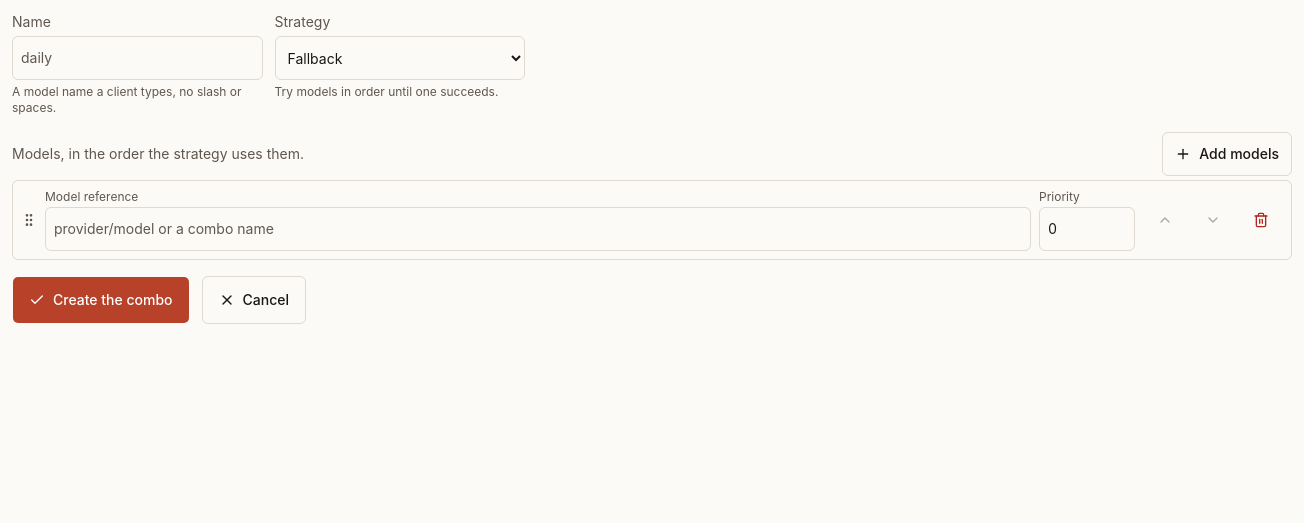
Test case: ComboEditor strategy fields › refuses a fusion combo with no judge model and sends nothing
In the field labelled "Name": (137, 58) [12,36,262,80], type "mixed"
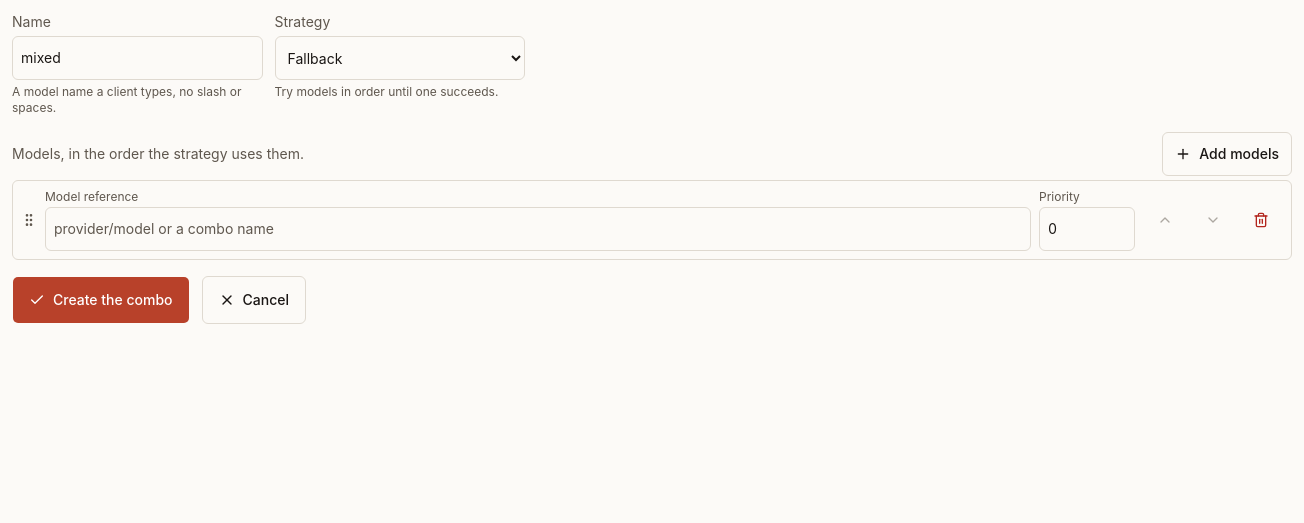
Select "Fusion" in the dropdown labelled "Strategy": (400, 58) [274,36,525,80]
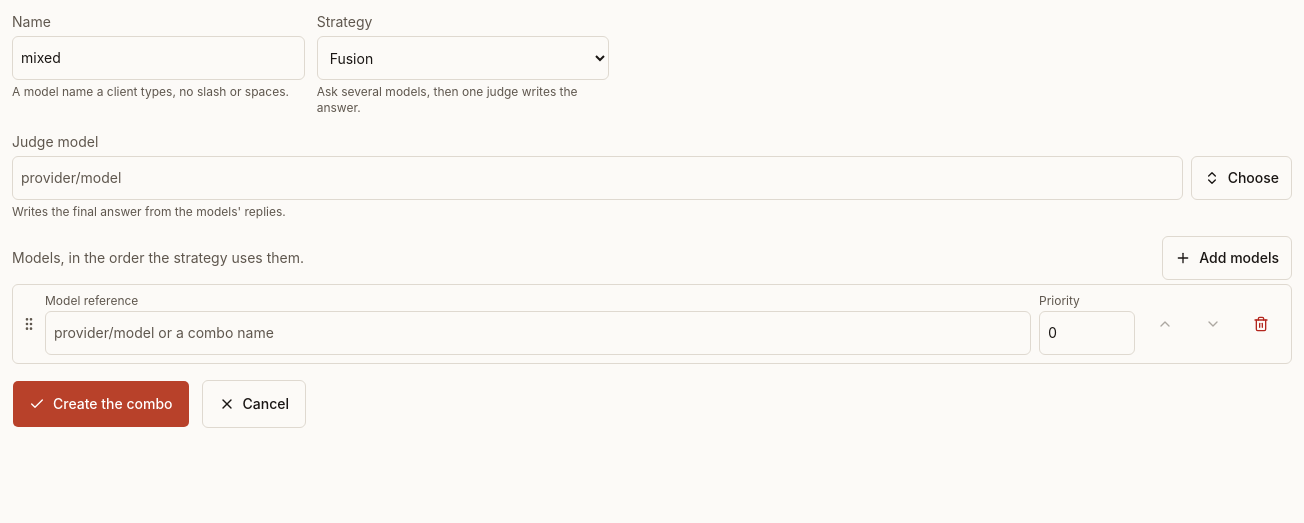
Click the button "Create the combo": (101, 404) [12,380,190,428]
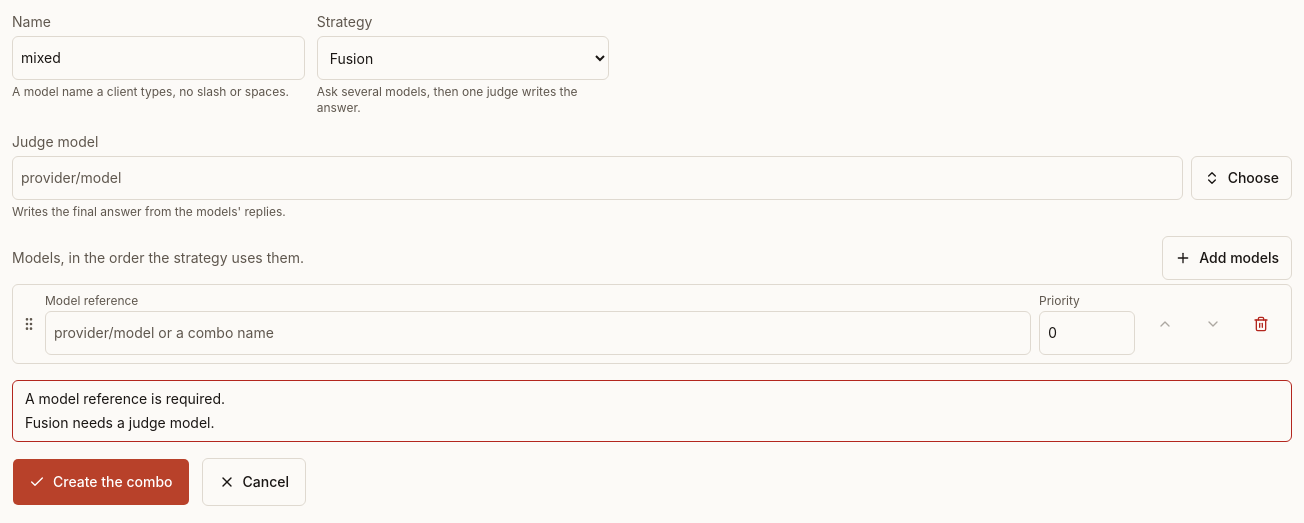
expect the list item "Fusion needs a judge model." is shown: met, box [25,414,214,431]
